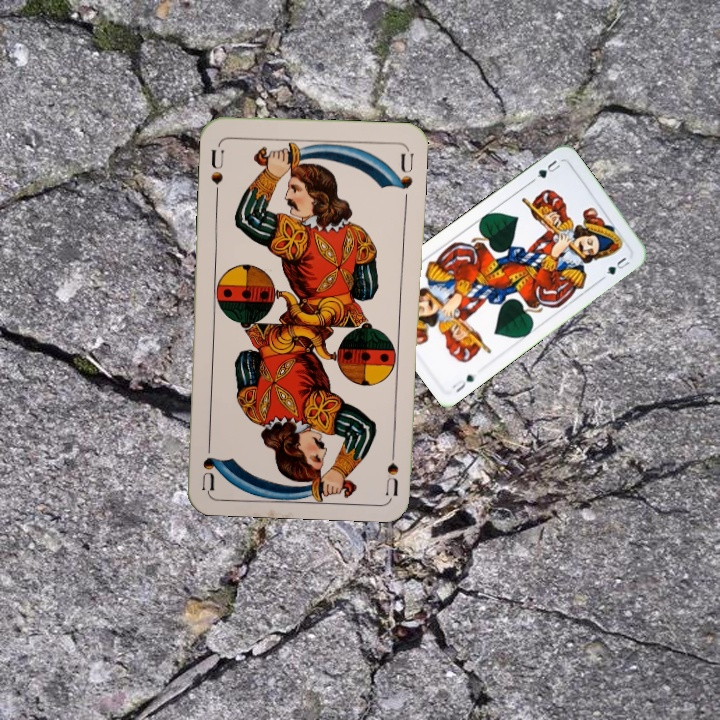GU: (528, 156, 563, 184), (448, 370, 477, 395)
SU: (382, 437, 401, 496), (207, 146, 227, 199)
